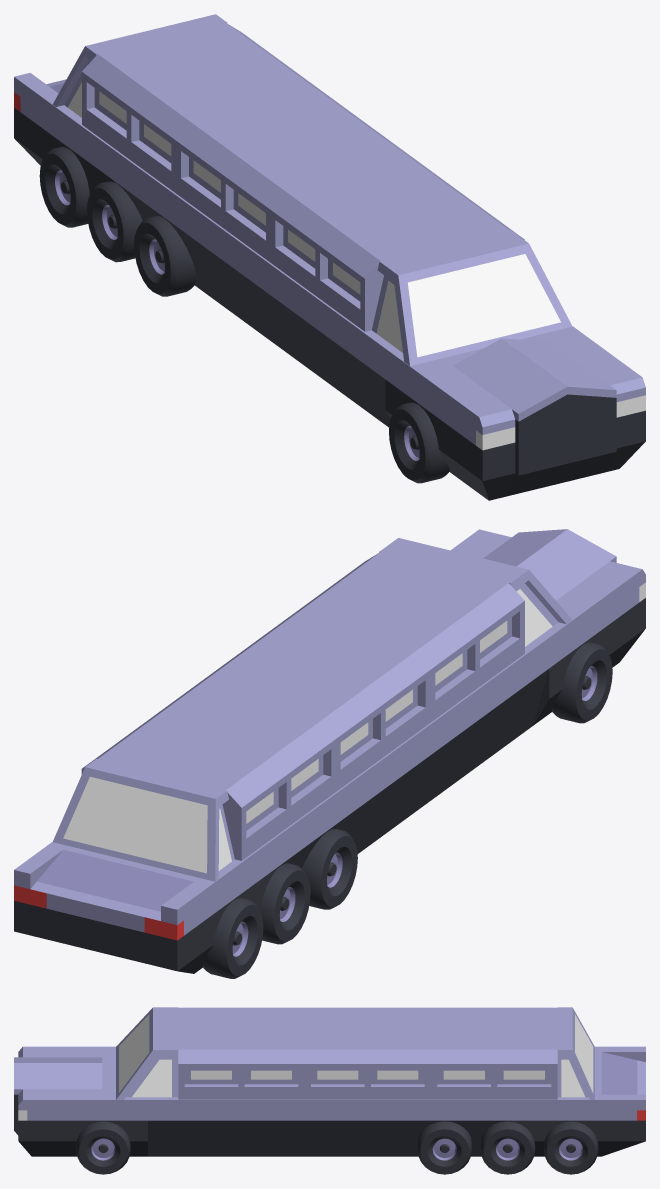
File: limuzin.fbx
3 views of the same model, one above another, from view 1: azimuth 30°, elevation 25°; view 2: azimuth 150°, elevation 25°; view 3: azimuth 270°, elevation 25° (orthographic). The views are drawn at different scales.
Visible parts, largest first — view 1: mergedBlocks; view 2: mergedBlocks; view 3: mergedBlocks.
Part boxes in pixels (x1,y1,x2,y2): mergedBlocks: [14, 14, 645, 500]; mergedBlocks: [14, 529, 645, 978]; mergedBlocks: [14, 1007, 645, 1174].
Bounding box in the file's own units: 11.73 × 10.08 × 50.
